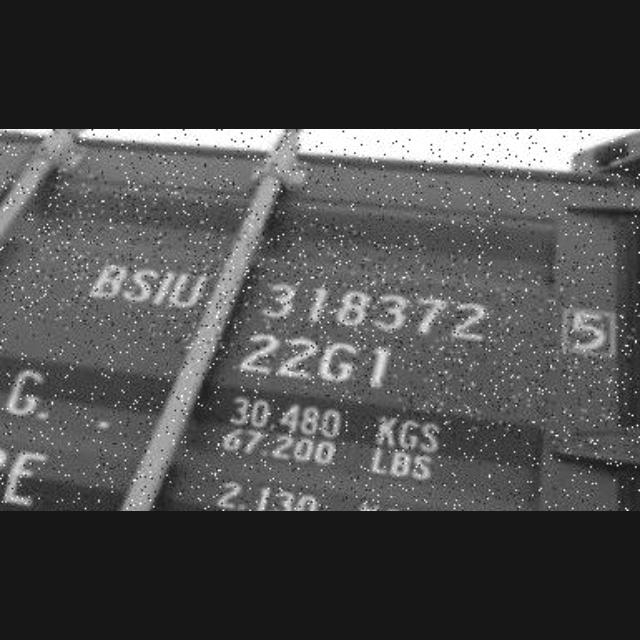0: (312, 438, 340, 468), (322, 406, 343, 439), (296, 437, 316, 465), (250, 399, 268, 425)
1: (366, 342, 396, 398), (303, 281, 331, 329), (252, 481, 276, 511)
2: (450, 295, 490, 349), (279, 334, 319, 381), (241, 329, 277, 376), (214, 478, 246, 512), (270, 434, 298, 464)
3: (376, 290, 410, 340), (264, 281, 298, 321), (228, 394, 250, 431)
4: (278, 400, 302, 438)
5: (567, 308, 607, 360)
6: (220, 426, 246, 458)
7: (412, 291, 448, 341), (243, 428, 265, 458)
8: (336, 284, 376, 334), (303, 402, 321, 440)
b: (89, 260, 125, 306), (390, 448, 412, 480)
e: (0, 444, 50, 511)
g: (5, 361, 50, 425), (319, 337, 361, 391), (398, 416, 420, 454)
i: (155, 265, 177, 309)
k: (372, 412, 398, 448)
l: (366, 448, 388, 480)
s: (127, 262, 157, 306), (420, 419, 446, 456), (408, 452, 436, 484)
u: (172, 266, 208, 310)
